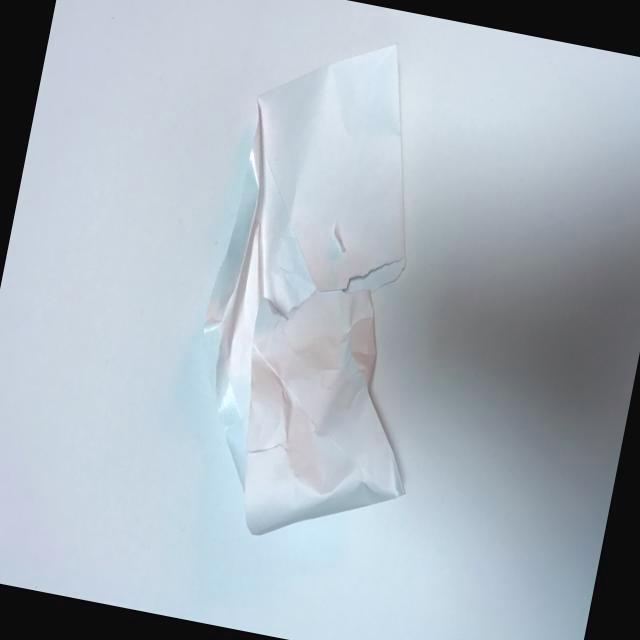paper: (147, 0, 520, 584)
